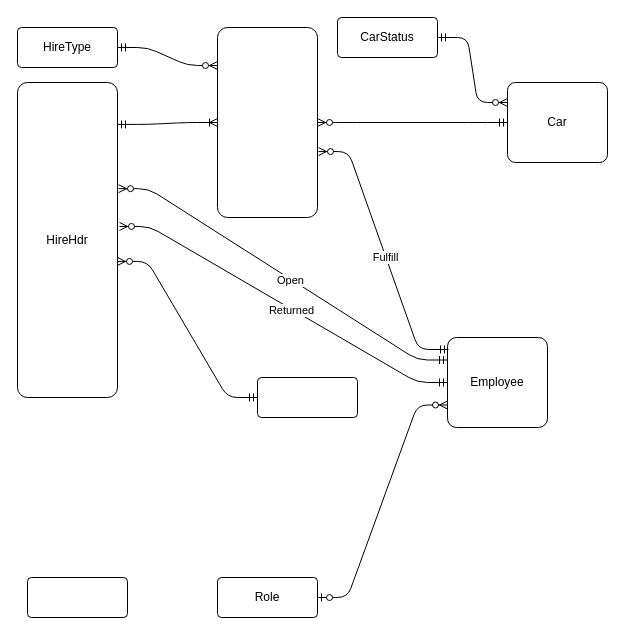
Some shapes in this 625 by 635 pixel diagram are drawn without their labels. Each missing label, with the box of its shape:
Configurations: (26, 576, 128, 618)
Customer: (256, 376, 358, 418)
Hire: (216, 26, 318, 218)
